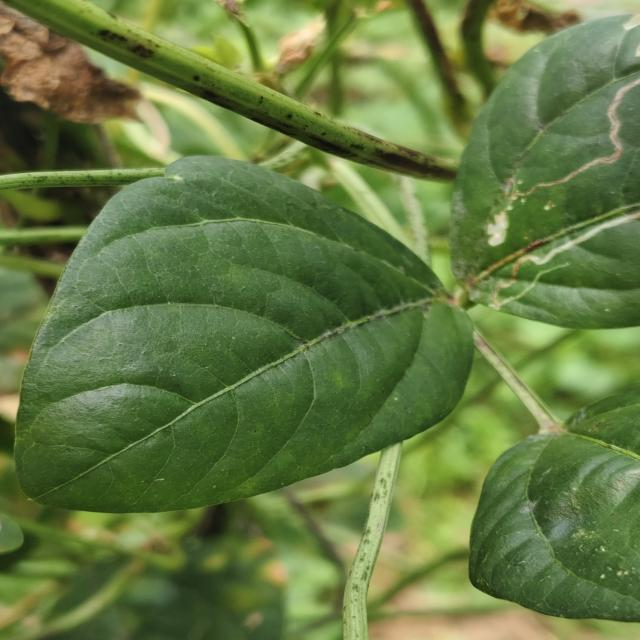leaf-low: (15, 156, 473, 513), (469, 386, 640, 622)
sitaw-aphid-low: (451, 15, 640, 329)
